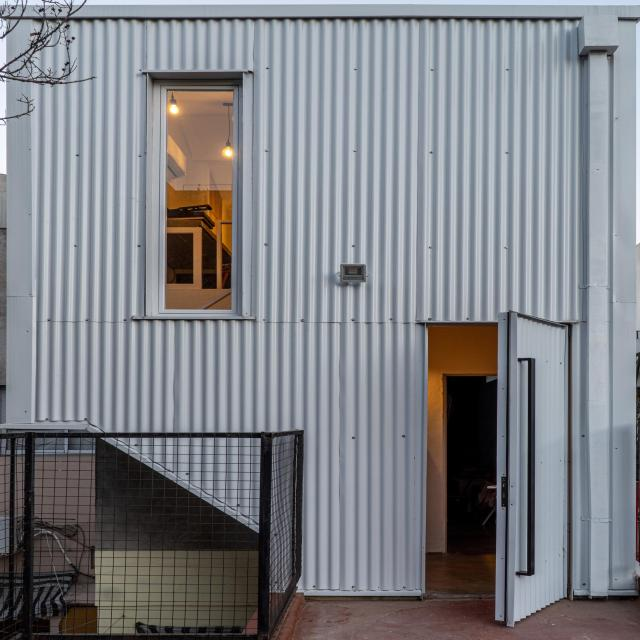door: (412, 322, 567, 595)
window: (153, 84, 235, 311)
